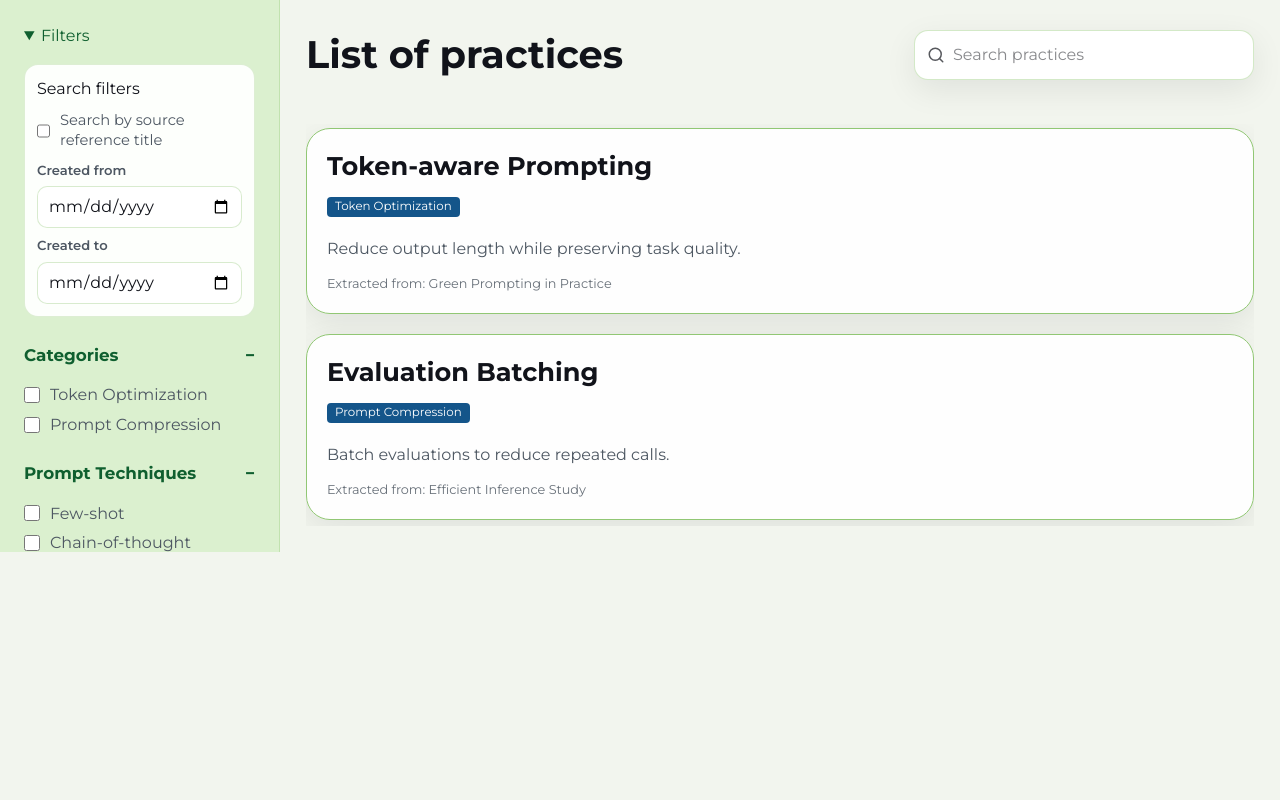
Test: Catalog page requirements › FR1/US9: includes source title in search when source toggle is enabled
In the search field with placeholder "Search practices": (1097, 55) [953,31,1241,79], type "inference study"
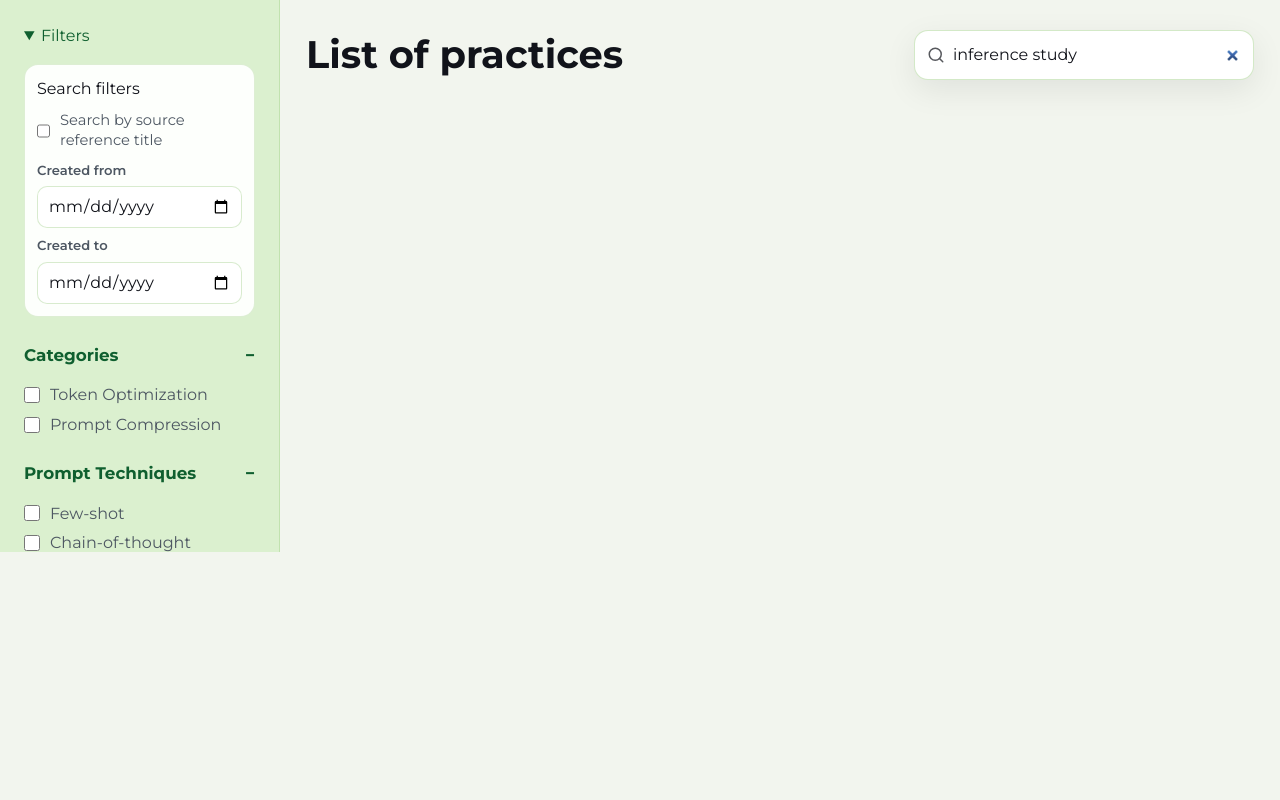
Expected: the link "Evaluation Batching" is gone
Click the checkbox labelled "Search by source reference title": (44, 131) [37,123,50,139]
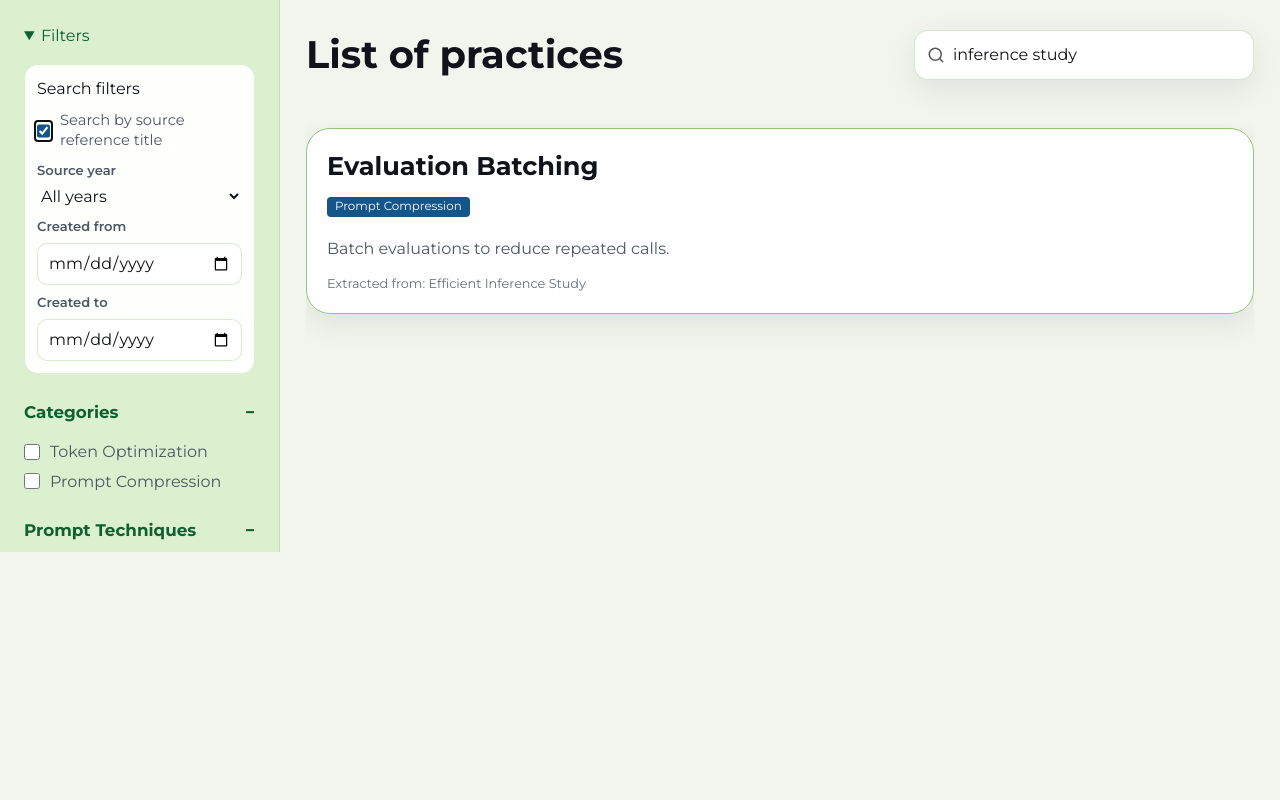
Expected: the link "Evaluation Batching" is shown, [306,128,1254,314]
